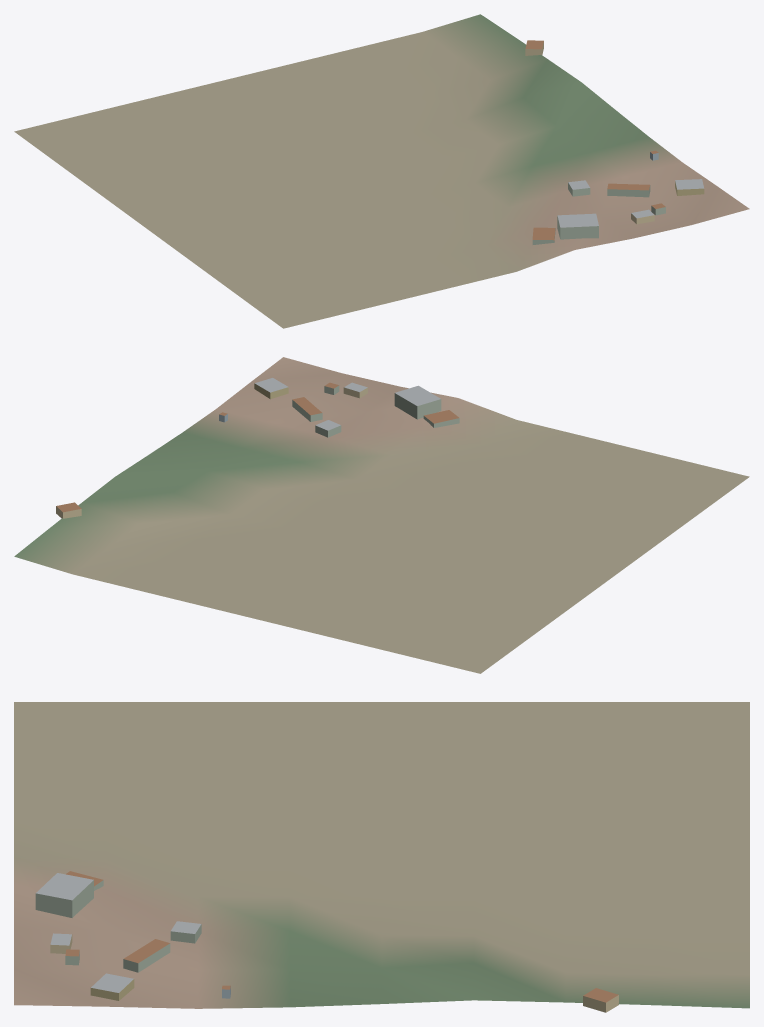
3 renders of one model, top to bottom at view 1: azimuth 30°, elevation 25°; view 2: azimuth 150°, elevation 25°; view 3: azimuth 270°, elevation 25°, orthographic. The views are drawn at different scales.
Visible parts, largest first — view 1: Lo; view 2: Lo; view 3: Lo.
Part boxes in pixels (bbox=[...]): Lo: bbox=[14, 14, 749, 328]; Lo: bbox=[14, 357, 749, 673]; Lo: bbox=[14, 702, 749, 1012].
Bounding box in the file's own units: 262 × 9.4 × 256.
